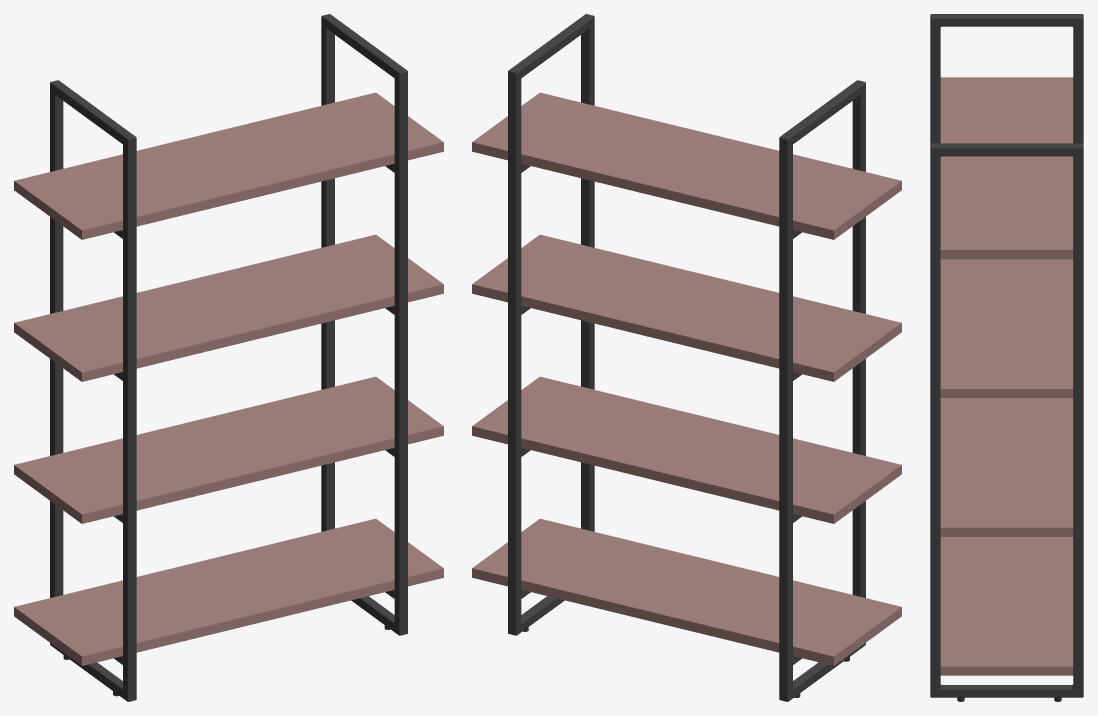
The model's file is BookShelf.fbx.
3 renders of one model, left to right at view 1: azimuth 30°, elevation 25°; view 2: azimuth 150°, elevation 25°; view 3: azimuth 270°, elevation 25°, orthographic. The views are drawn at different scales.
Visible parts, largest first — view 1: ShelfBord, ShelfFrame; view 2: ShelfBord, ShelfFrame; view 3: ShelfBord, ShelfFrame.
Part boxes in pixels (x1=…): ShelfBord: x1=14, y1=92, x2=443, y2=665; ShelfFrame: x1=50, y1=14, x2=407, y2=701; ShelfBord: x1=472, y1=92, x2=901, y2=665; ShelfFrame: x1=508, y1=14, x2=865, y2=701; ShelfBord: x1=940, y1=77, x2=1073, y2=675; ShelfFrame: x1=930, y1=14, x2=1083, y2=697.
Size of the model in its own units: 0.8 by 1.2 by 0.3.
